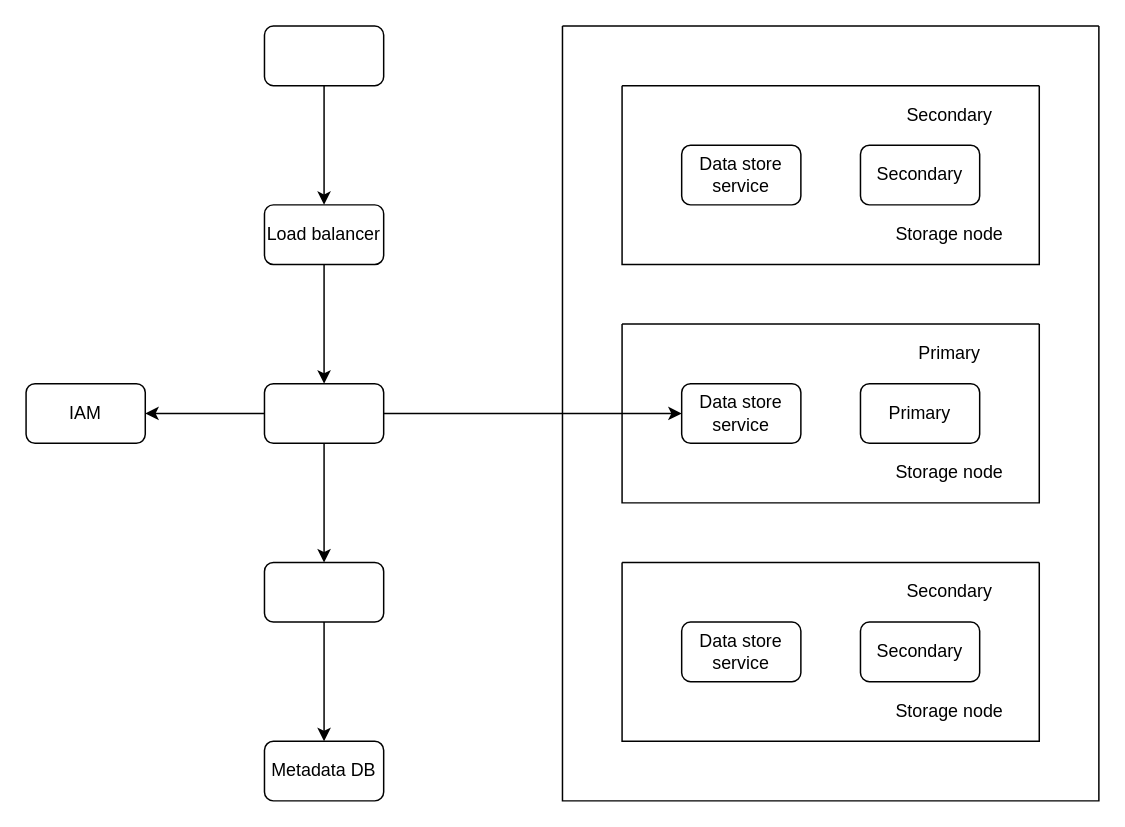
The diagram is 1125 pixels wide and 827 high, and some of its shapes have lost their labels. The centre of each missing label's shape, as x and y in pixels:
"API service" belongs at point 323,412.
"Client" belongs at point 323,55.
"Metadata service" belongs at point 323,591.
